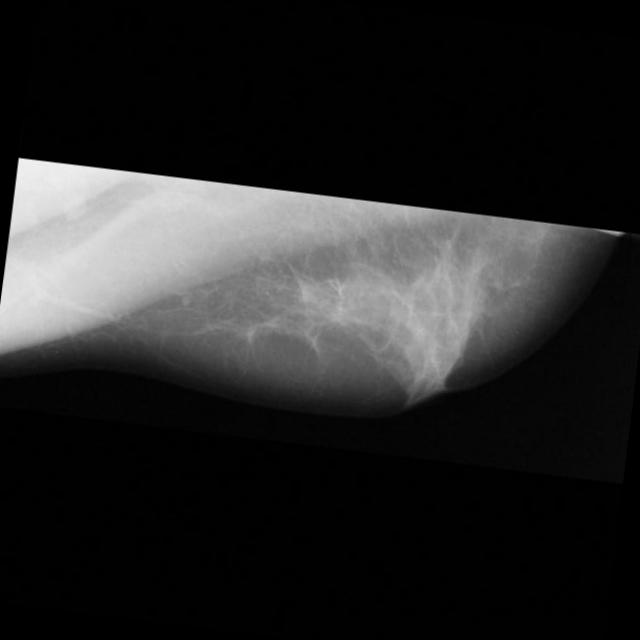CALC: (286, 266, 348, 328)
